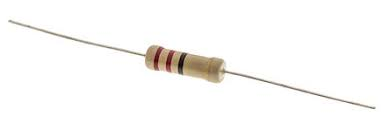resistor: (128, 41, 245, 94)
